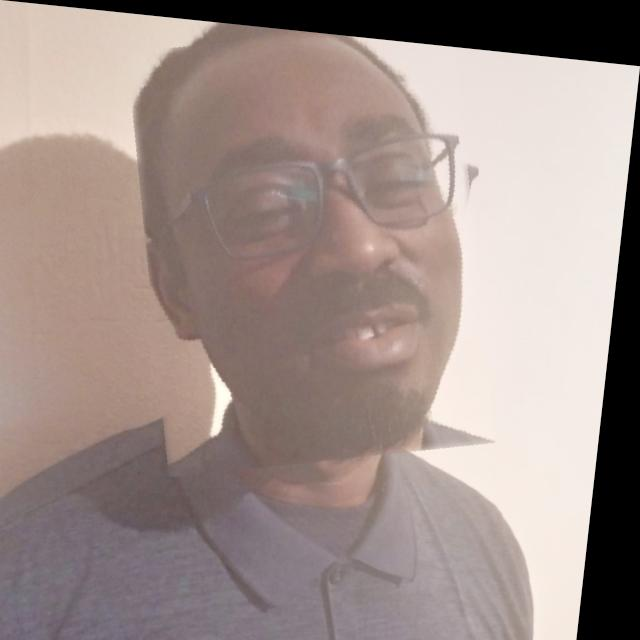happy: (113, 12, 518, 481)
